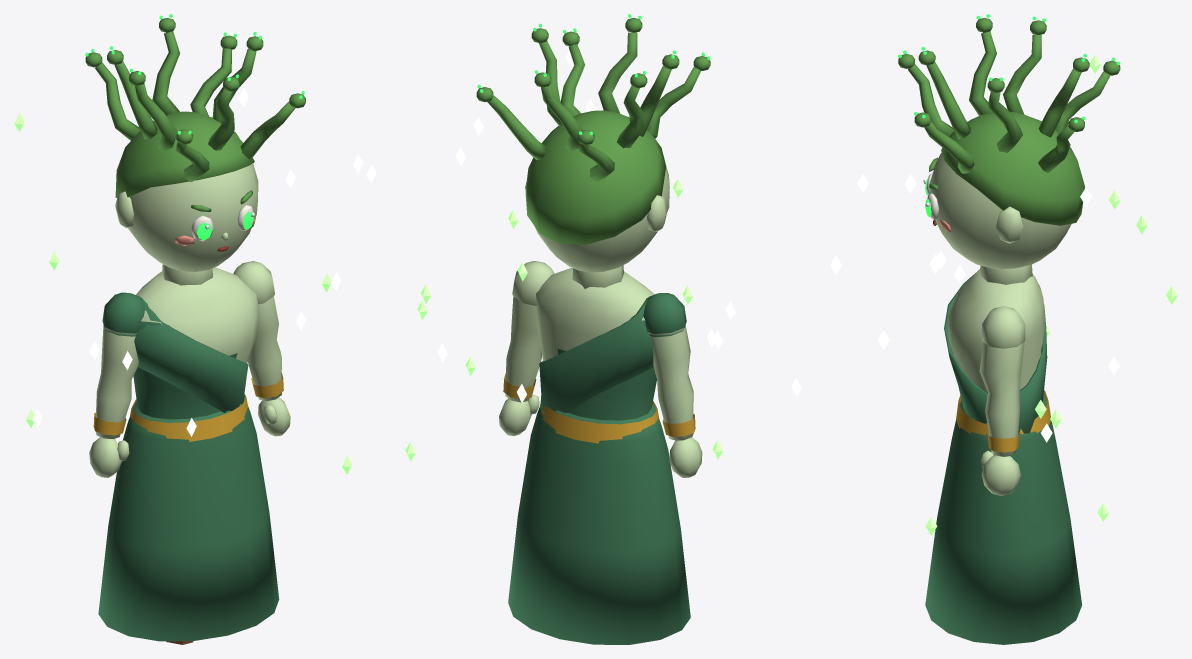
File: medusa.glb
3 renders of one model, left to right at view 1: azimuth 30°, elevation 25°; view 2: azimuth 150°, elevation 25°; view 3: azimuth 270°, elevation 25°, orthographic.
Visible parts, largest first — view 1: huefte, rumpf, haare, kopf, armL, armR, vfx_funken_1, vfx_funken_2, vfx_funken_0; view 2: huefte, haare, rumpf, armL, armR, kopf, vfx_funken_0, vfx_funken_1, vfx_funken_2; view 3: huefte, haare, rumpf, kopf, armR, vfx_funken_0, vfx_funken_1, vfx_funken_2.
Part boxes in pixels (box(x1,y1,x2,y2)): huefte: box(98, 396, 279, 641); rumpf: box(130, 267, 259, 441); haare: box(85, 14, 305, 197); kopf: box(115, 163, 258, 285); armL: box(89, 292, 144, 477); armR: box(233, 261, 290, 436); vfx_funken_1: box(14, 113, 376, 436); vfx_funken_2: box(49, 88, 352, 474); vfx_funken_0: box(26, 169, 331, 427); huefte: box(508, 403, 690, 644); haare: box(476, 14, 710, 244); rumpf: box(536, 268, 659, 443); armL: box(643, 293, 702, 477); armR: box(499, 261, 554, 435); kopf: box(525, 167, 669, 288); vfx_funken_0: box(417, 99, 801, 459); vfx_funken_1: box(473, 51, 722, 349); vfx_funken_2: box(405, 147, 692, 461); huefte: box(925, 393, 1081, 644); haare: box(898, 14, 1120, 225); rumpf: box(944, 269, 1050, 435); kopf: box(929, 152, 1071, 284); armR: box(979, 306, 1025, 495); vfx_funken_0: box(904, 174, 1177, 418); vfx_funken_1: box(857, 54, 1147, 349); vfx_funken_2: box(830, 187, 1109, 535).
Size of the model in its own units: 1.63 by 2.61 by 1.44.
